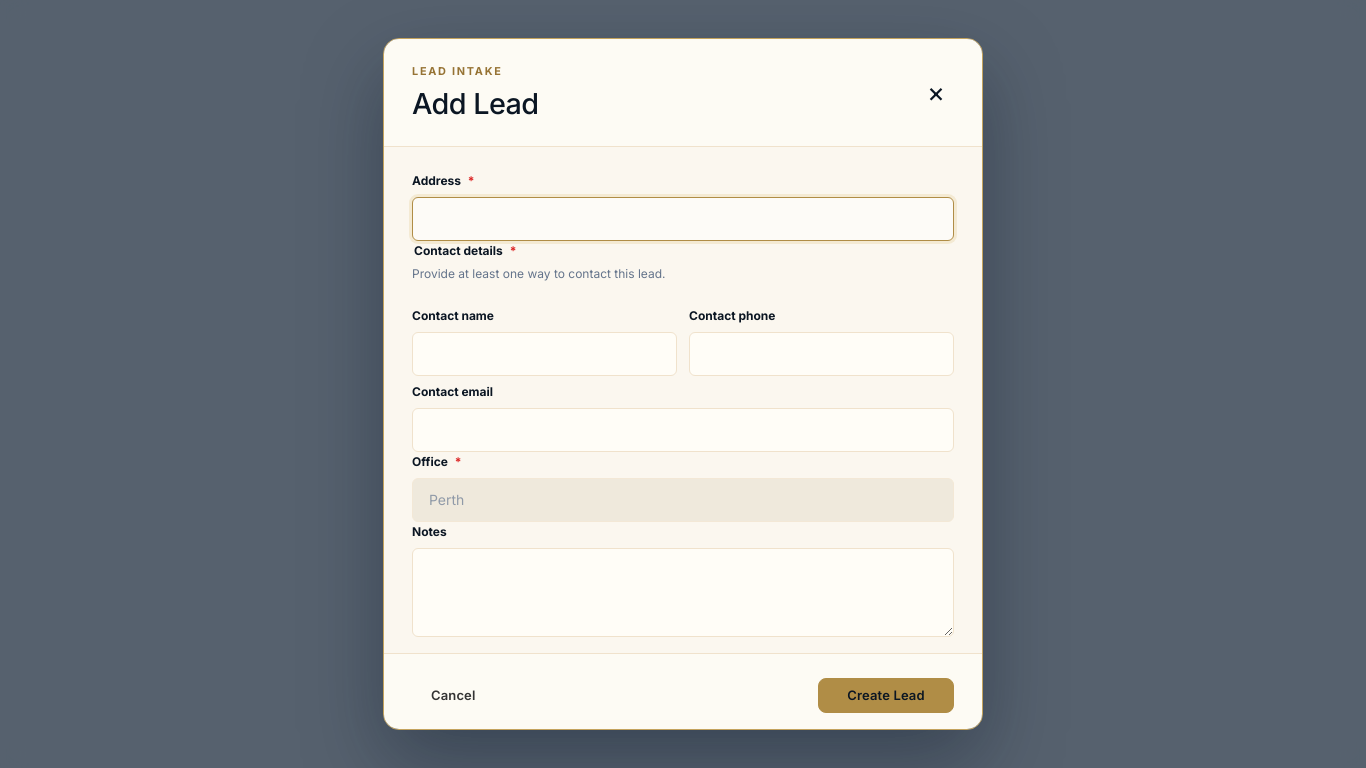
Test: AddLeadModal › shows validation errors when address or every contact detail is missing
Click the button "Create Lead".
click(886, 696)  # box [818,678,954,713]
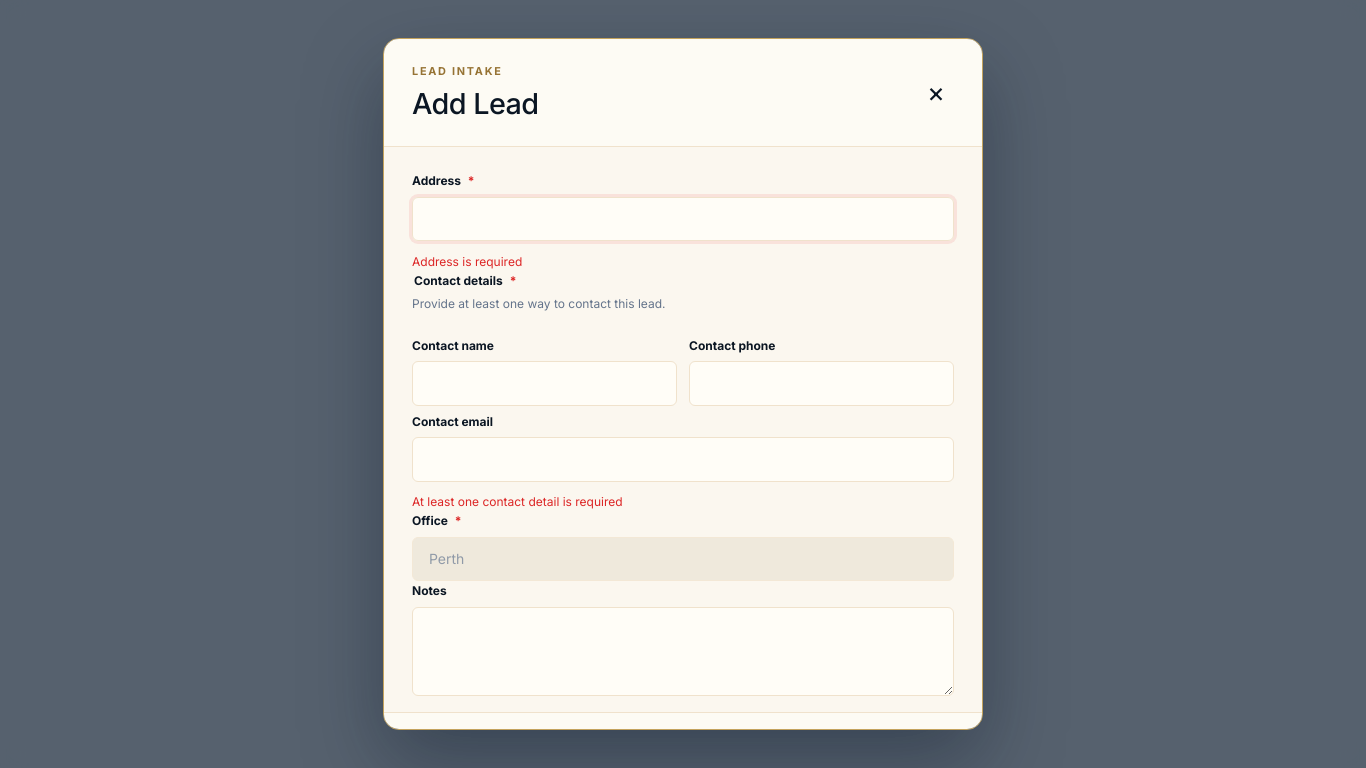
expect the text "Address is required" is shown: met, box [412,254,522,269]
expect the text "At least one contact detail is required" is shown: met, box [412,494,623,509]
